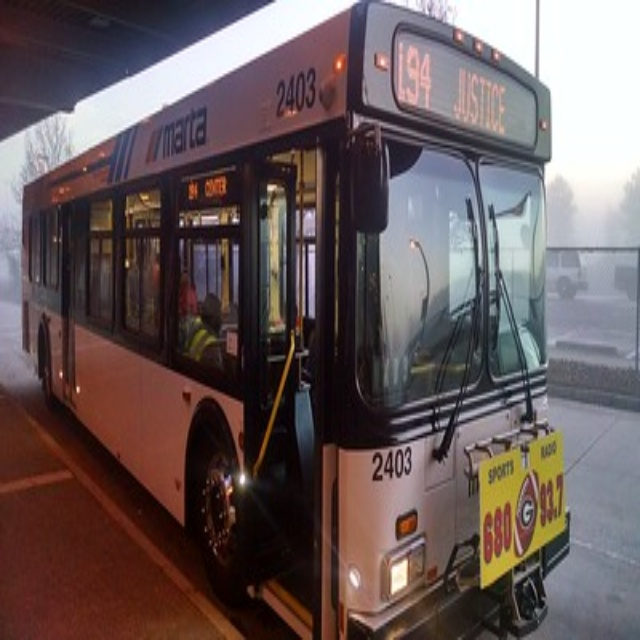Bus: (21, 3, 568, 640)
